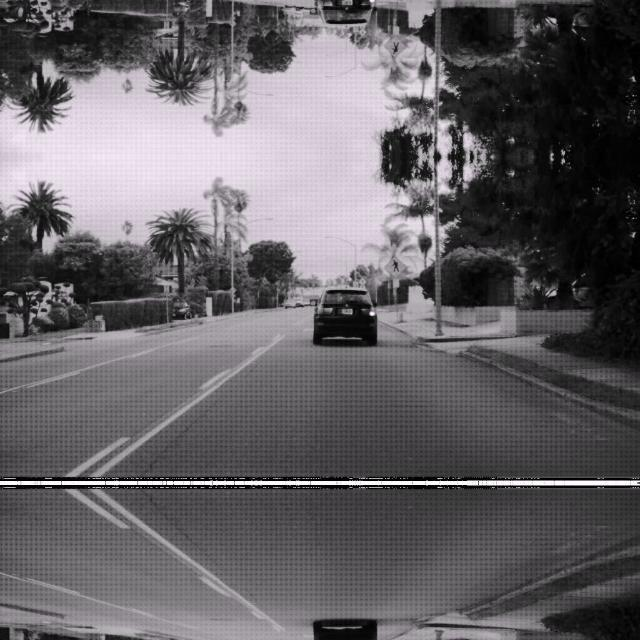pedestrianCrossing: (384, 34, 406, 58), (384, 255, 406, 278)
